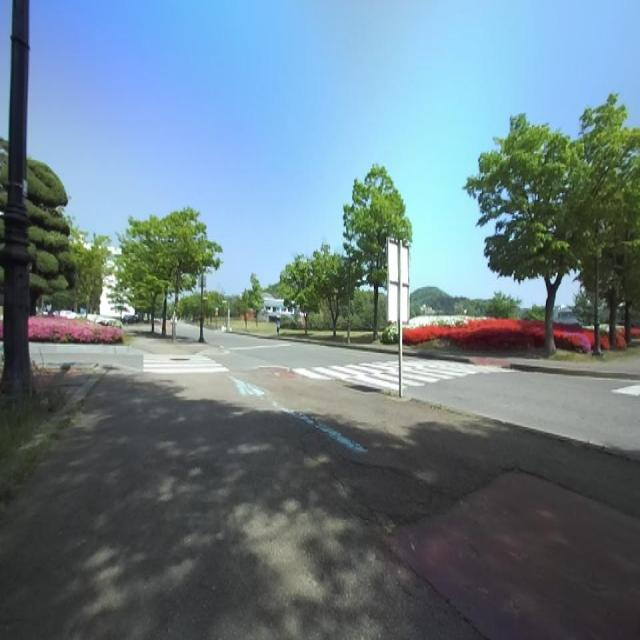sidewalk: (0, 369, 640, 639), (403, 349, 640, 374), (126, 333, 220, 355)
